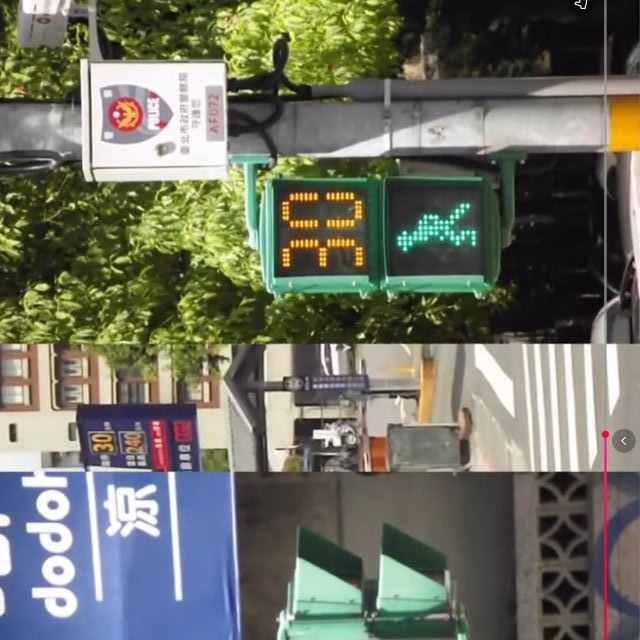green_light: (262, 180, 499, 290)
